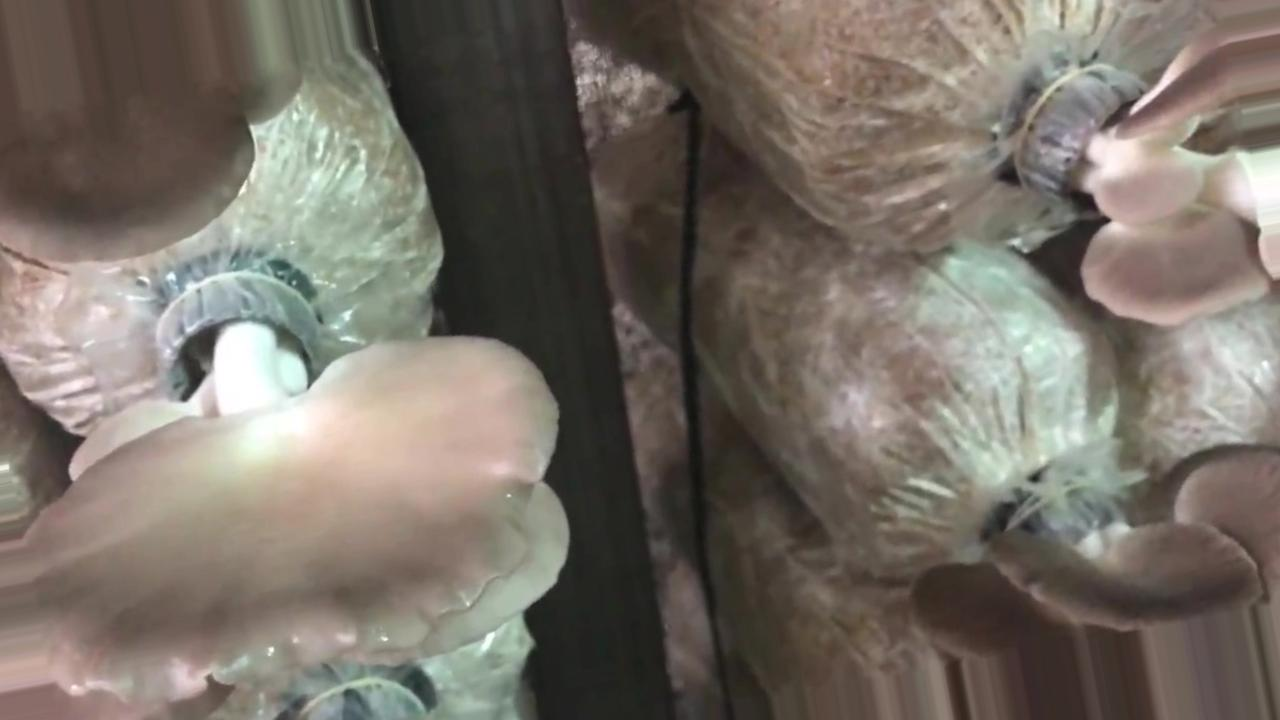nam: (35, 264, 571, 702), (905, 430, 1280, 662), (1017, 2, 1280, 329), (1, 5, 302, 268)
